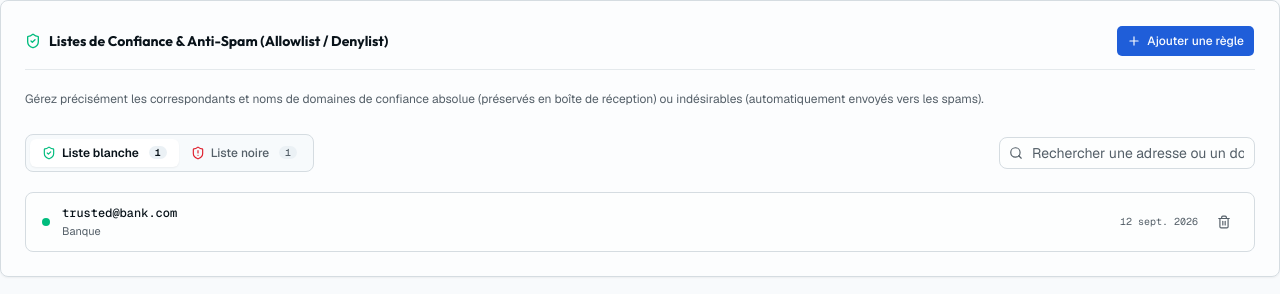
Test case: SenderListsSettings › bascule vers la liste noire au clic sur l'onglet correspondant
Click the button "Liste noire 1" at (244, 152), box [179,138,309,166]
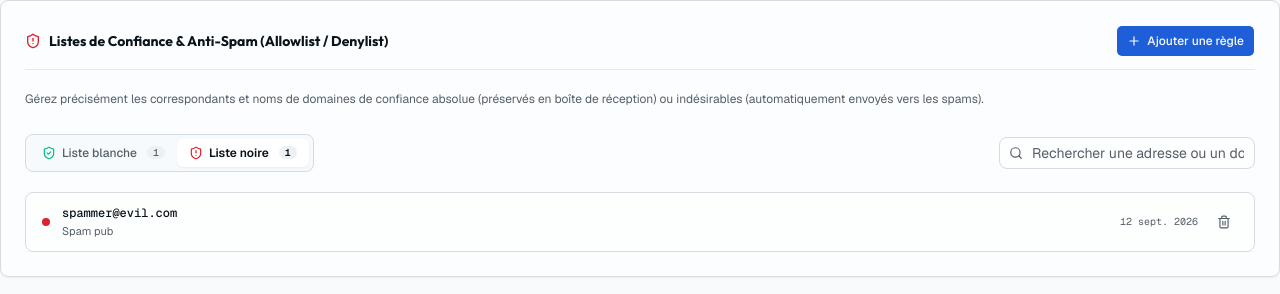
Check: the text "spammer@evil.com" is shown, box [62,204,177,220]
Check: the text "Spam pub" is shown, box [62,224,113,238]
Check: the text "trusted@bank.com" is gone
